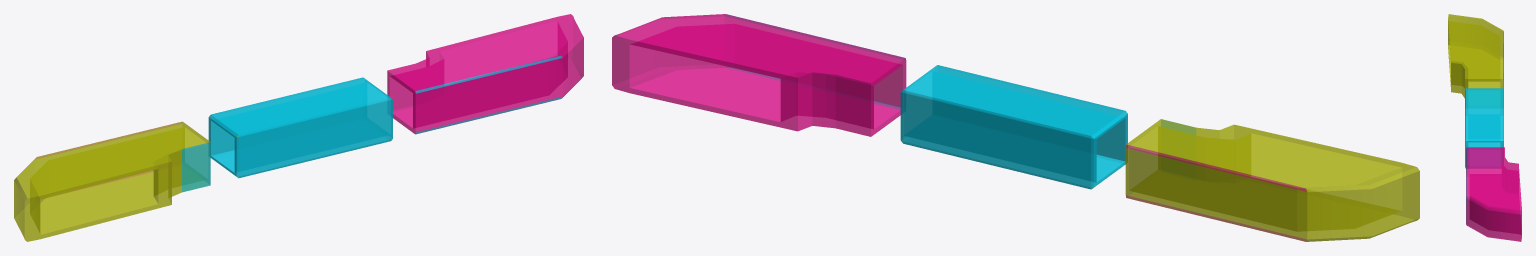
The picture shows the model from 3 angles, left to right: view 1: azimuth 30°, elevation 25°; view 2: azimuth 150°, elevation 25°; view 3: azimuth 270°, elevation 25°; orthographic projection. The views are drawn at different scales.
Parts seen in each view (by area): view 1: Box003; view 2: Box003; view 3: Box003.
Boxes of the visible parts, bbox=[...] form: Box003: bbox=[14, 14, 583, 241]; Box003: bbox=[612, 14, 1419, 241]; Box003: bbox=[1448, 14, 1521, 241].
Bounding box in the file's own units: 661 × 45.63 × 103.
